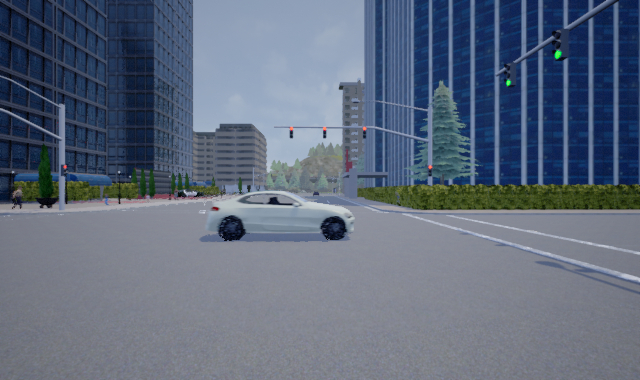pedestrian: (9, 184, 26, 209)
traffic_light: (551, 28, 569, 59), (502, 60, 518, 86), (59, 163, 68, 176), (288, 125, 294, 139), (426, 164, 432, 176), (362, 125, 366, 139), (322, 126, 326, 138)
vehicle: (204, 191, 354, 241), (174, 189, 203, 198)
